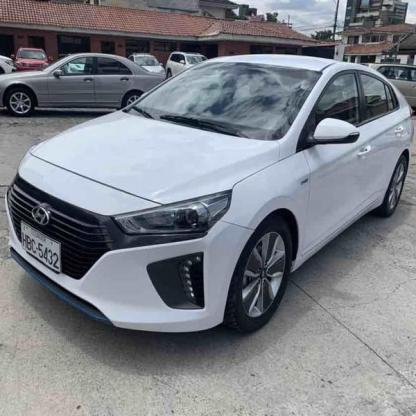Placa: (13, 223, 65, 274)
